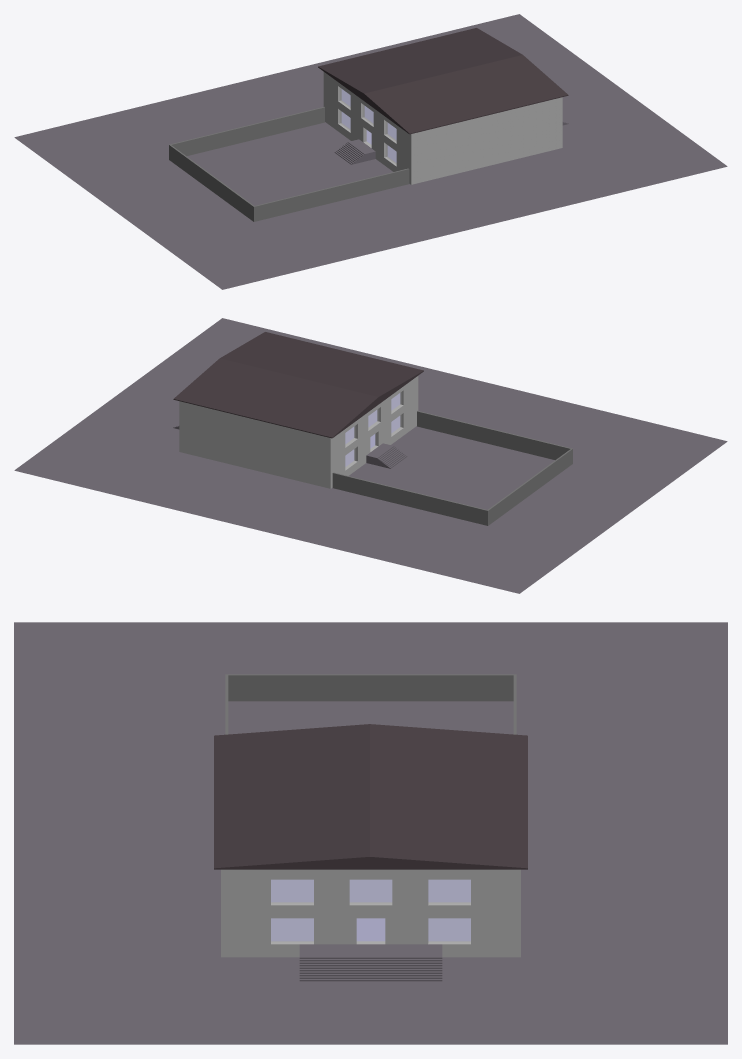
3 views of the same model, one above another, from view 1: azimuth 30°, elevation 25°; view 2: azimuth 150°, elevation 25°; view 3: azimuth 270°, elevation 25° (orthographic). The views are drawn at different scales.
Visible parts, largest first — view 1: OutsideGround, Roof, Walls, Fence, OutsideSmallStair, Windows; view 2: OutsideGround, Roof, Walls, Fence, OutsideSmallStair, Windows; view 3: OutsideGround, Roof, Walls, Fence, OutsideLargeStair, Windows, SecondFloorGround, FirstFloorGround.
Part boxes in pixels (box(x1,y1,x2,y2)): OutsideGround: box(14, 14, 727, 289); Roof: box(318, 28, 568, 134); Walls: box(323, 72, 562, 184); Fence: box(169, 107, 409, 221); OutsideSmallStair: box(334, 139, 375, 164); Windows: box(341, 89, 395, 163); OutsideGround: box(14, 318, 727, 593); Roof: box(173, 332, 423, 438); Walls: box(179, 376, 418, 488); Fence: box(332, 411, 572, 525); OutsideSmallStair: box(366, 443, 407, 468); Windows: box(346, 393, 400, 467); OutsideGround: box(14, 622, 727, 1044); Roof: box(214, 724, 527, 869); Walls: box(221, 869, 520, 957); Fence: box(225, 674, 516, 734); OutsideLargeStair: box(299, 944, 442, 981); Windows: box(271, 880, 470, 941); SecondFloorGround: box(271, 879, 470, 902); FirstFloorGround: box(271, 918, 470, 941).
Size of the model in its own units: 70 by 7.99 by 50.
